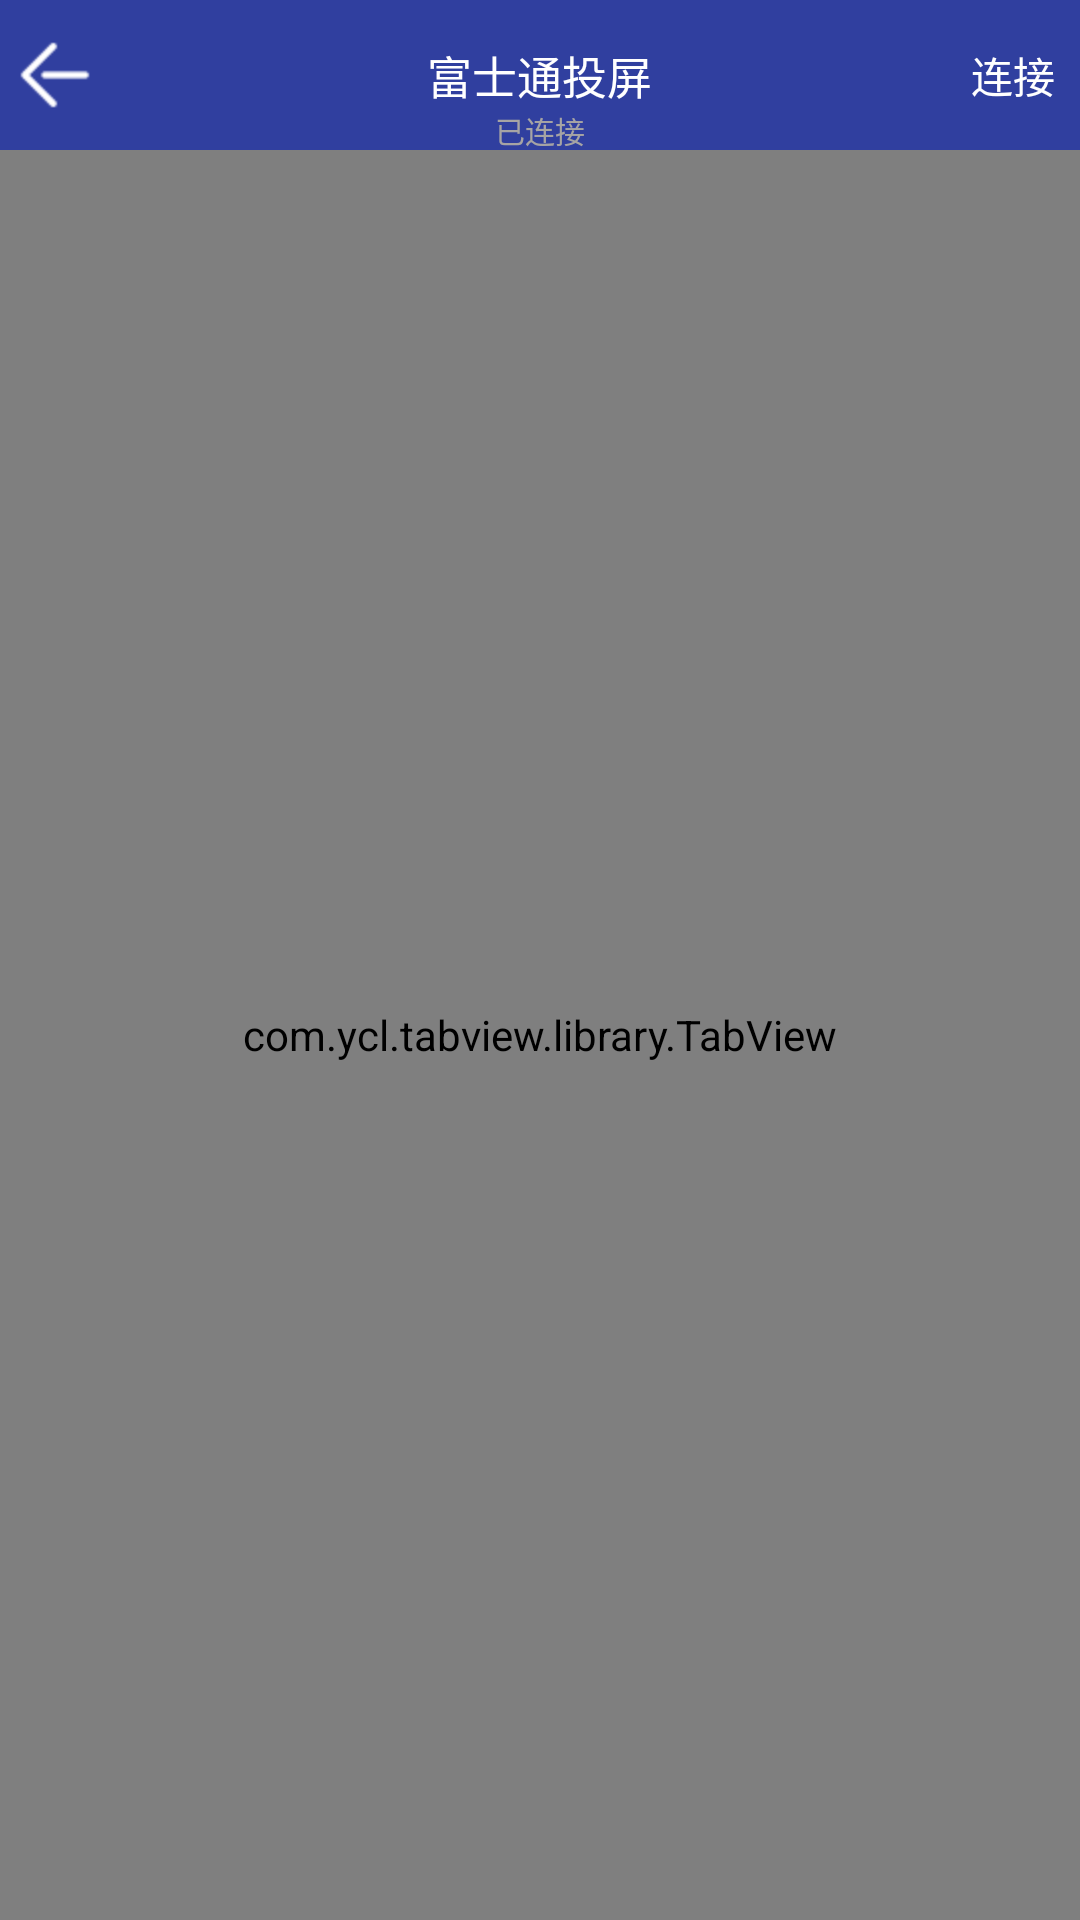

Screen size 1080x1920. Icon name, then its center in pixels as point (x, y):
back: point (55, 75)
